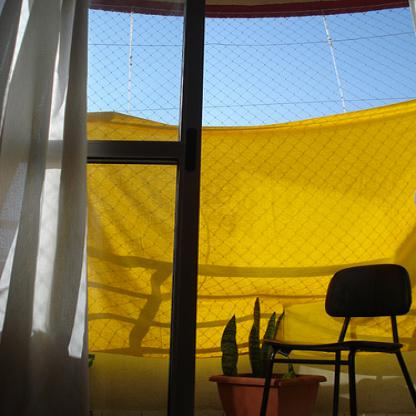chair: (257, 263, 415, 415)
pottedplant: (210, 296, 327, 416)
